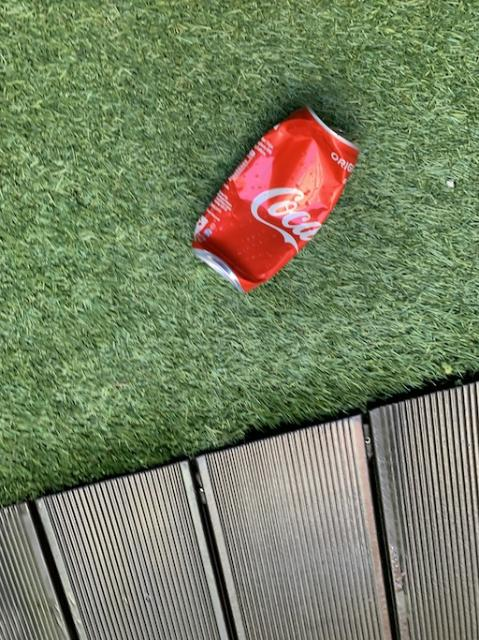metal: (192, 106, 358, 290)
